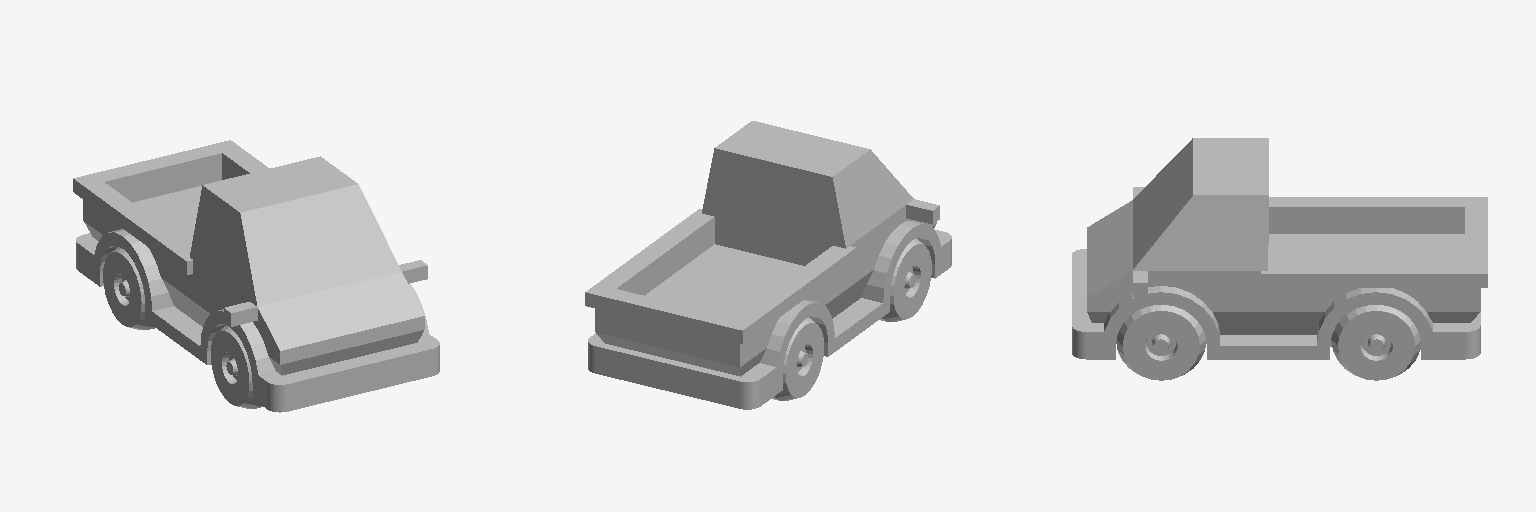
File: truckFlat.obj
3 views of the same model, side by side, from view 1: azimuth 30°, elevation 25°; view 2: azimuth 150°, elevation 25°; view 3: azimuth 270°, elevation 25° (orthographic).
Parts seen in each view (by area): view 1: body, wheel_backRight, wheel_frontRight; view 2: body, wheel_frontRight, wheel_backRight; view 3: body, wheel_frontLeft, wheel_backLeft.
Part boxes in pixels (left/top/right/bottom): body: left=73, top=140, right=439, bottom=412; wheel_backRight: left=103, top=247, right=154, bottom=329; wheel_frontRight: left=211, top=325, right=262, bottom=408; body: left=585, top=121, right=951, bottom=409; wheel_frontRight: left=880, top=238, right=931, bottom=321; wheel_backRight: left=772, top=317, right=823, bottom=400; body: left=1072, top=138, right=1487, bottom=359; wheel_frontLeft: left=1116, top=305, right=1205, bottom=380; wheel_backLeft: left=1331, top=305, right=1420, bottom=380.
Bounding box in the file's own units: 1.12 × 0.975 × 2.06.